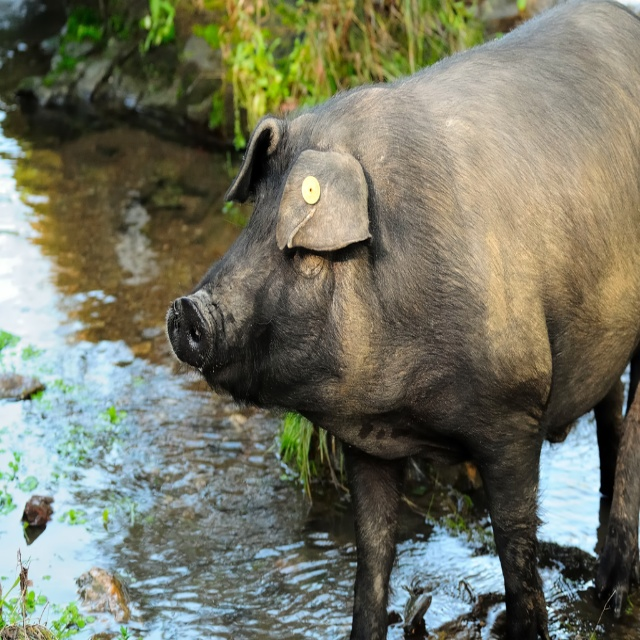Pig: (167, 0, 640, 639)
